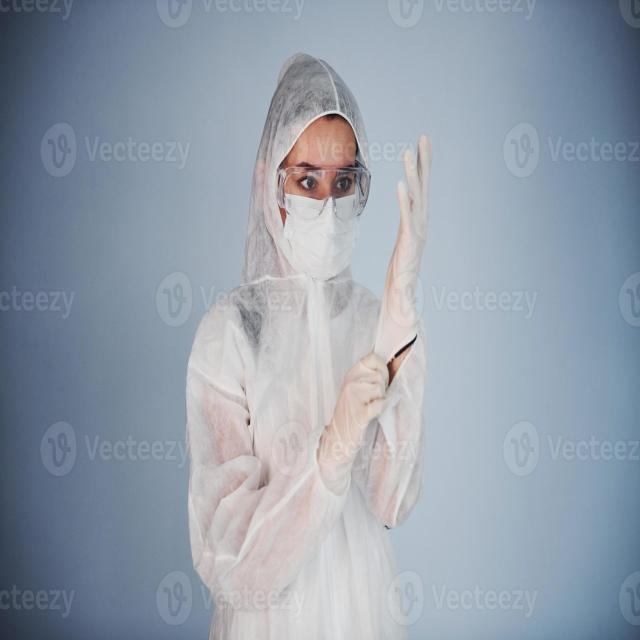Gloves: (380, 137, 443, 347), (329, 351, 394, 473)
Mask: (259, 157, 367, 290)
